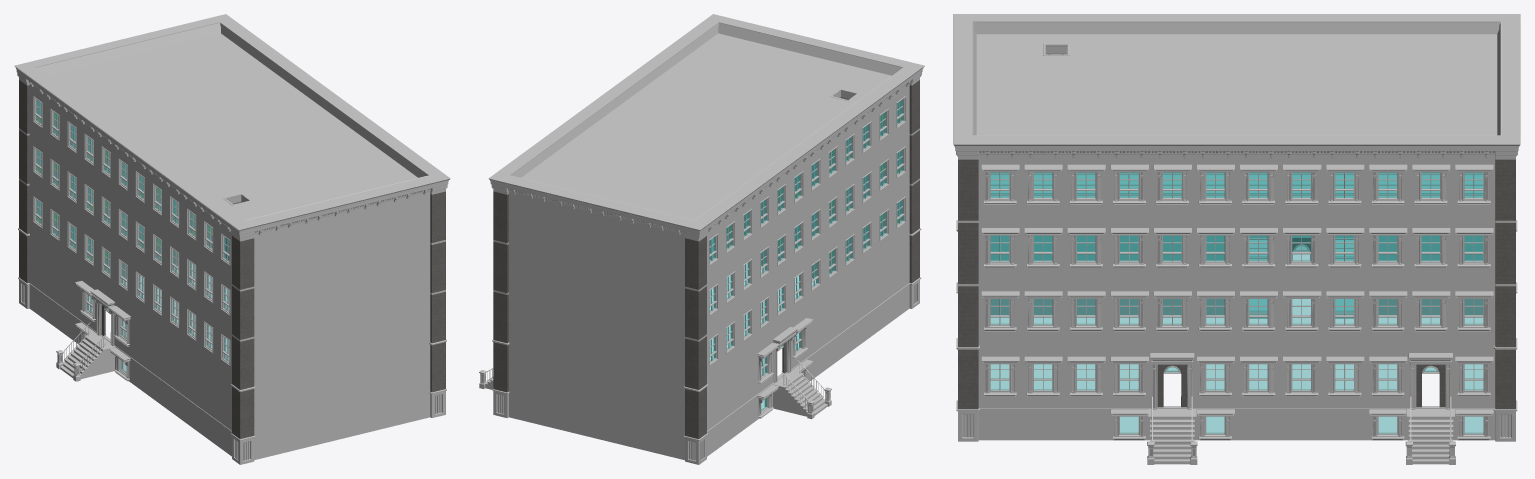
The model's file is SM_Building09_V3.fbx.
3 renders of one model, left to right at view 1: azimuth 30°, elevation 25°; view 2: azimuth 150°, elevation 25°; view 3: azimuth 270°, elevation 25°, orthographic. The views are drawn at different scales.
Visible parts, largest first — view 1: SM_Building09_V3; view 2: SM_Building09_V3; view 3: SM_Building09_V3.
Boxes of the visible parts, left/top/right/bottom form: SM_Building09_V3: left=14, top=14, right=450, bottom=464; SM_Building09_V3: left=479, top=14, right=924, bottom=464; SM_Building09_V3: left=953, top=14, right=1520, bottom=464.
Size of the model in its own units: 2383 by 1921 by 3292.
